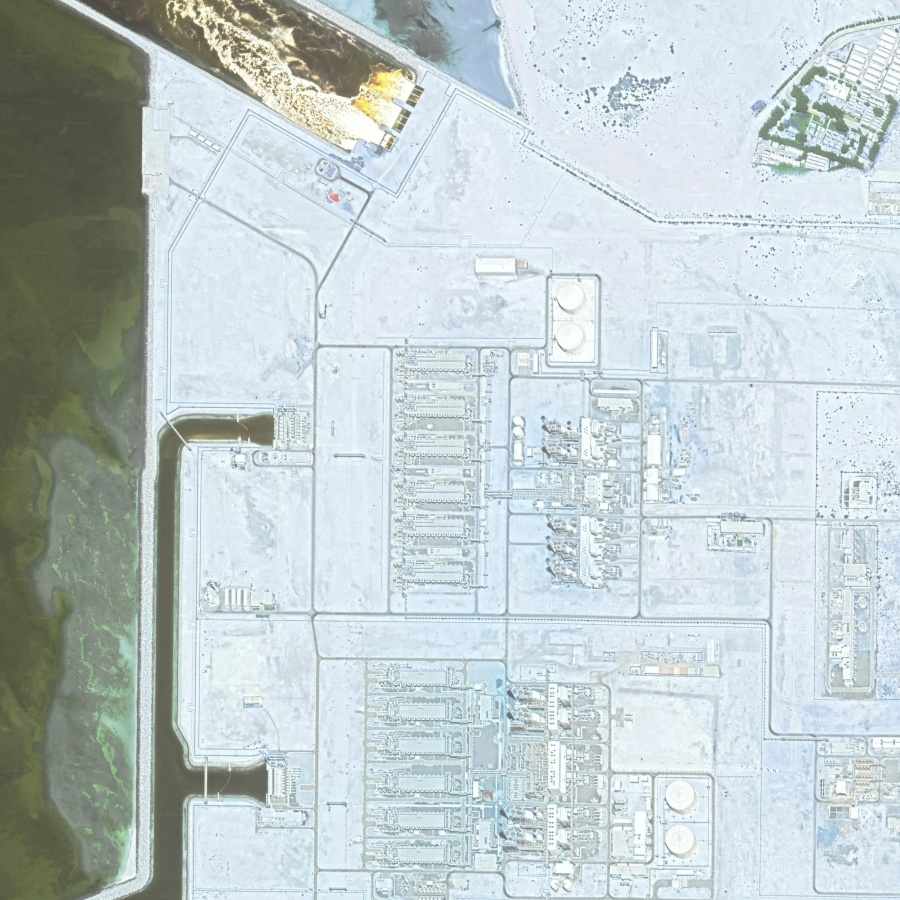PowerPlant: (388, 250, 720, 594)
